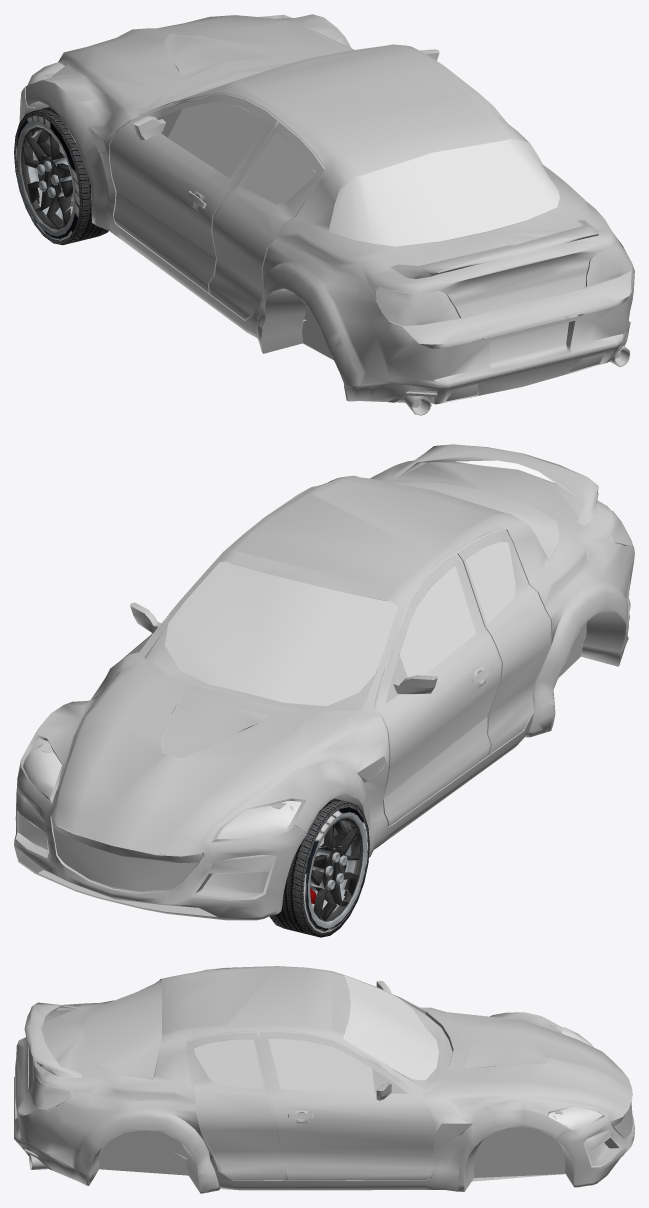
File: rx sports.fbx
The picture shows the model from 3 angles, top to bottom: view 1: azimuth 30°, elevation 25°; view 2: azimuth 150°, elevation 25°; view 3: azimuth 270°, elevation 25°; orthographic projection. The views are drawn at different scales.
Parts seen in each view (by area): view 1: rx sports body, rx sports tire, rx sports interior, rx sports tire.001; view 2: rx sports body, rx sports tire, rx sports interior, rx sports tire.001; view 3: rx sports body, rx sports tire, rx sports interior.
Part boxes in pixels (<box>): rx sports body: <box>19,14,634,403</box>; rx sports tire: <box>27,14,559,246</box>; rx sports interior: <box>25,16,632,415</box>; rx sports tire.001: <box>14,107,108,245</box>; rx sports body: <box>14,444,634,920</box>; rx sports tire: <box>23,477,559,839</box>; rx sports interior: <box>14,483,632,900</box>; rx sports tire.001: <box>269,798,369,937</box>; rx sports body: <box>14,966,634,1193</box>; rx sports tire: <box>83,975,602,1128</box>; rx sports interior: <box>21,977,632,1193</box>.
Bounding box in the file's own units: 250 × 188 × 595.
